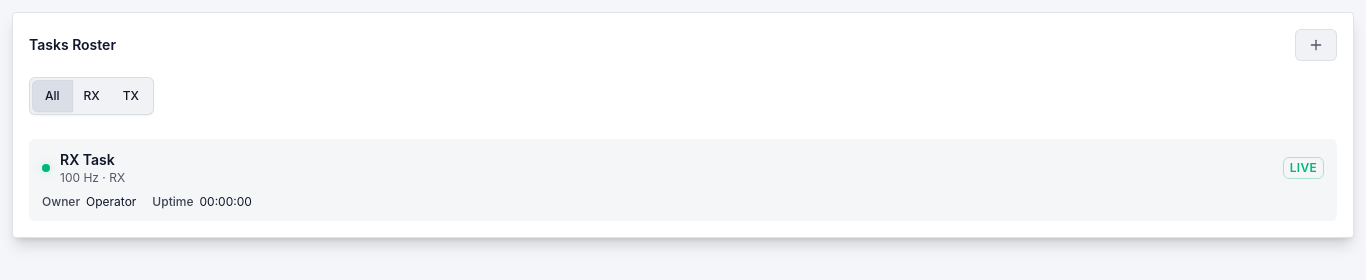
it: TaskRosterPanel › filters tasks by type and shows empty state messaging
Click the button "TX" at (131, 96), box [111,80,151,112]
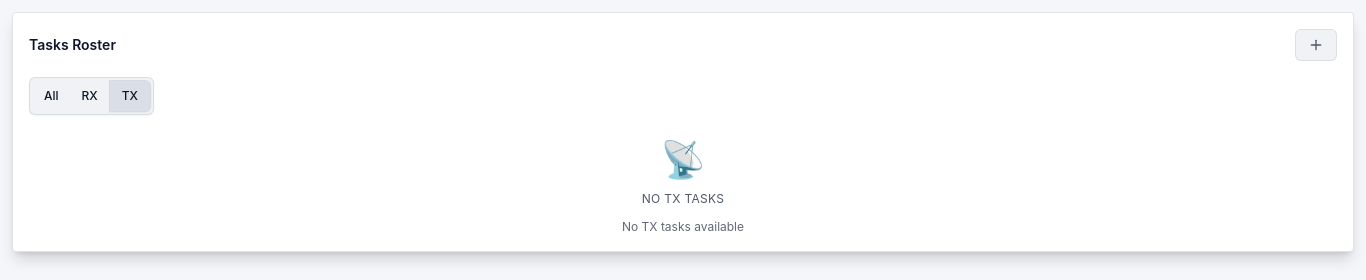
Expected: the text "No TX tasks" is shown, [642,191,724,207]
Expected: the text "No TX tasks available" is shown, [622,219,744,235]
